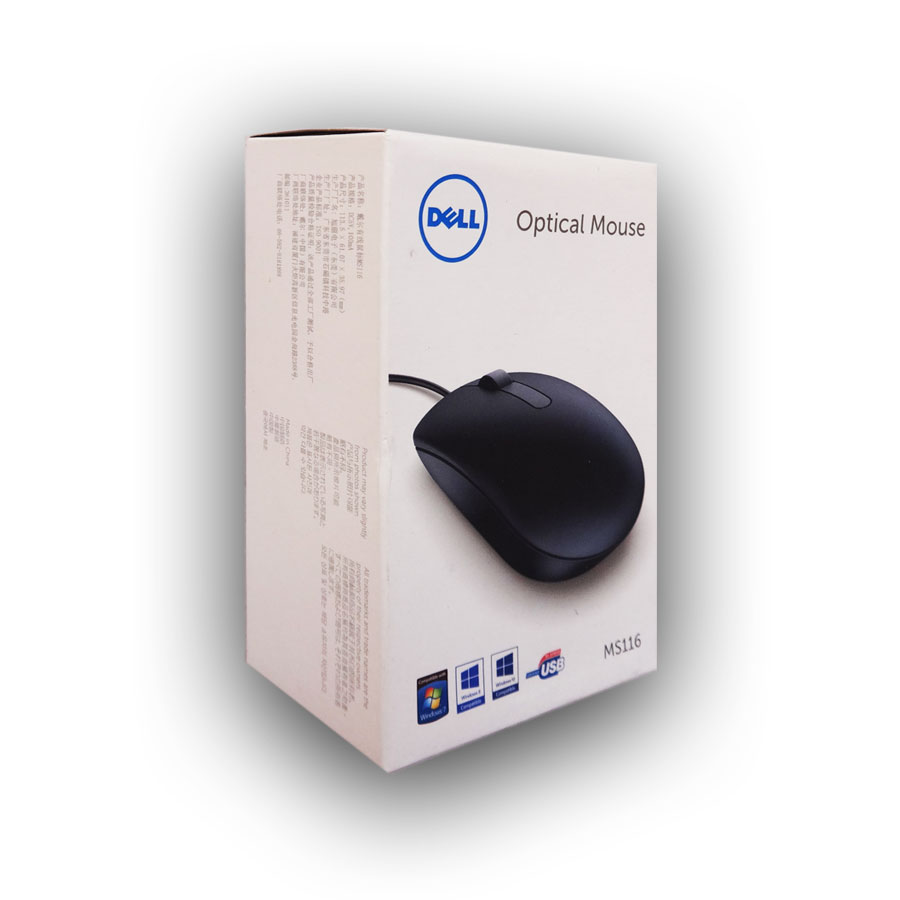dell-mouse-ms116: (381, 356, 650, 591)
